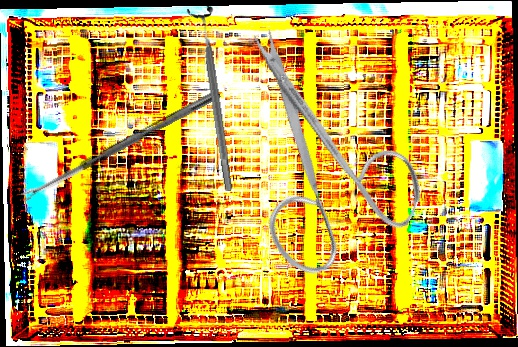Fixation Ring: (185, 4, 243, 194)
Iris Scissors: (170, 23, 459, 304)
Surgical Spoon: (19, 88, 222, 202)
